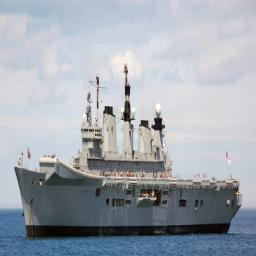Portanaves: (14, 60, 244, 242)
